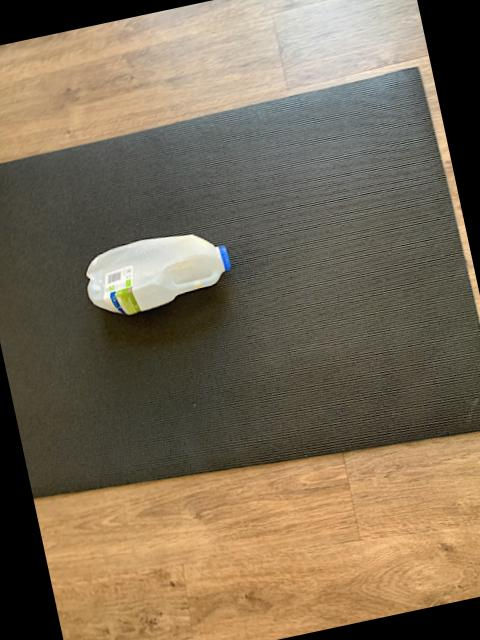plastic: (86, 232, 230, 312)
